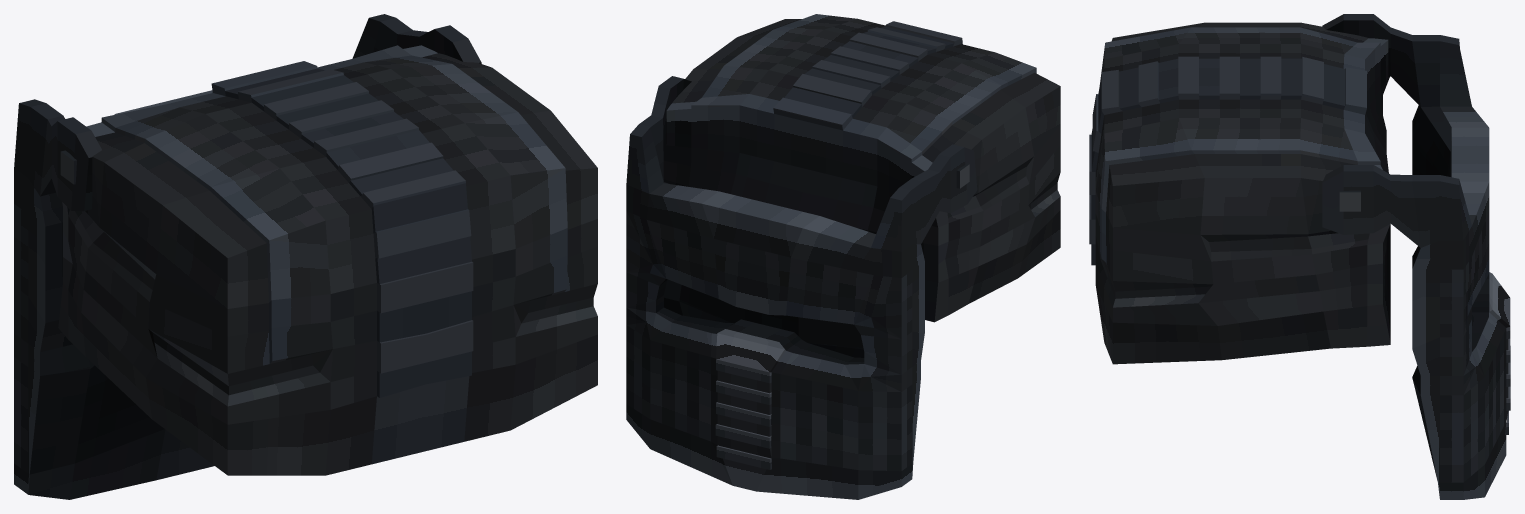
Rendered from metal_facemask_commando.glb.
3 renders of one model, left to right at view 1: azimuth 30°, elevation 25°; view 2: azimuth 150°, elevation 25°; view 3: azimuth 270°, elevation 25°, orthographic. The views are drawn at different scales.
Parts seen in each view (by area): view 1: head; view 2: head; view 3: head.
Boxes of the visible parts, x1,y1,x2,y2 form: head: (14,14,597,499); head: (626,14,1060,499); head: (1089,14,1510,499).
Size of the model in its own units: 0.5625 by 0.6031 by 0.6158.
1 material, 1 textured.
